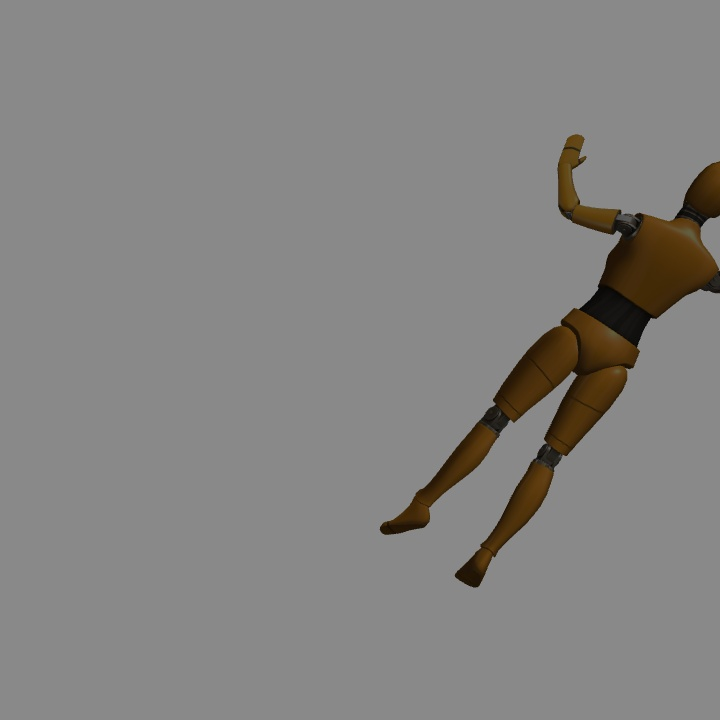victim: (381, 161, 720, 587)
